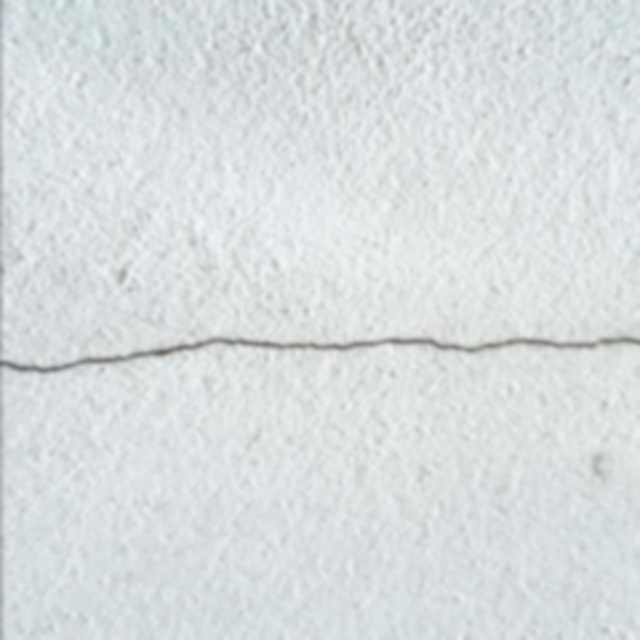SurfaceCrack: (1, 283, 640, 411)
